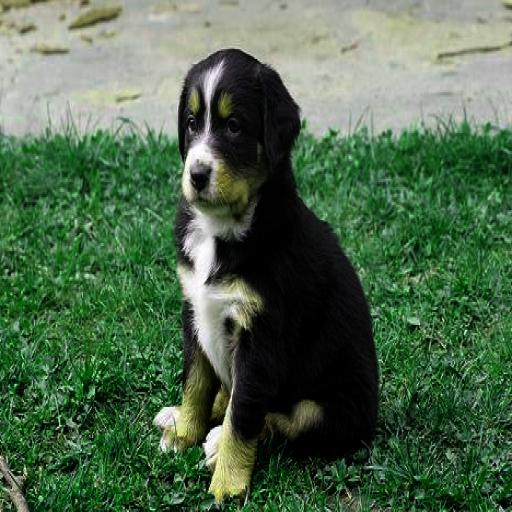dog_face: (171, 51, 292, 203)
